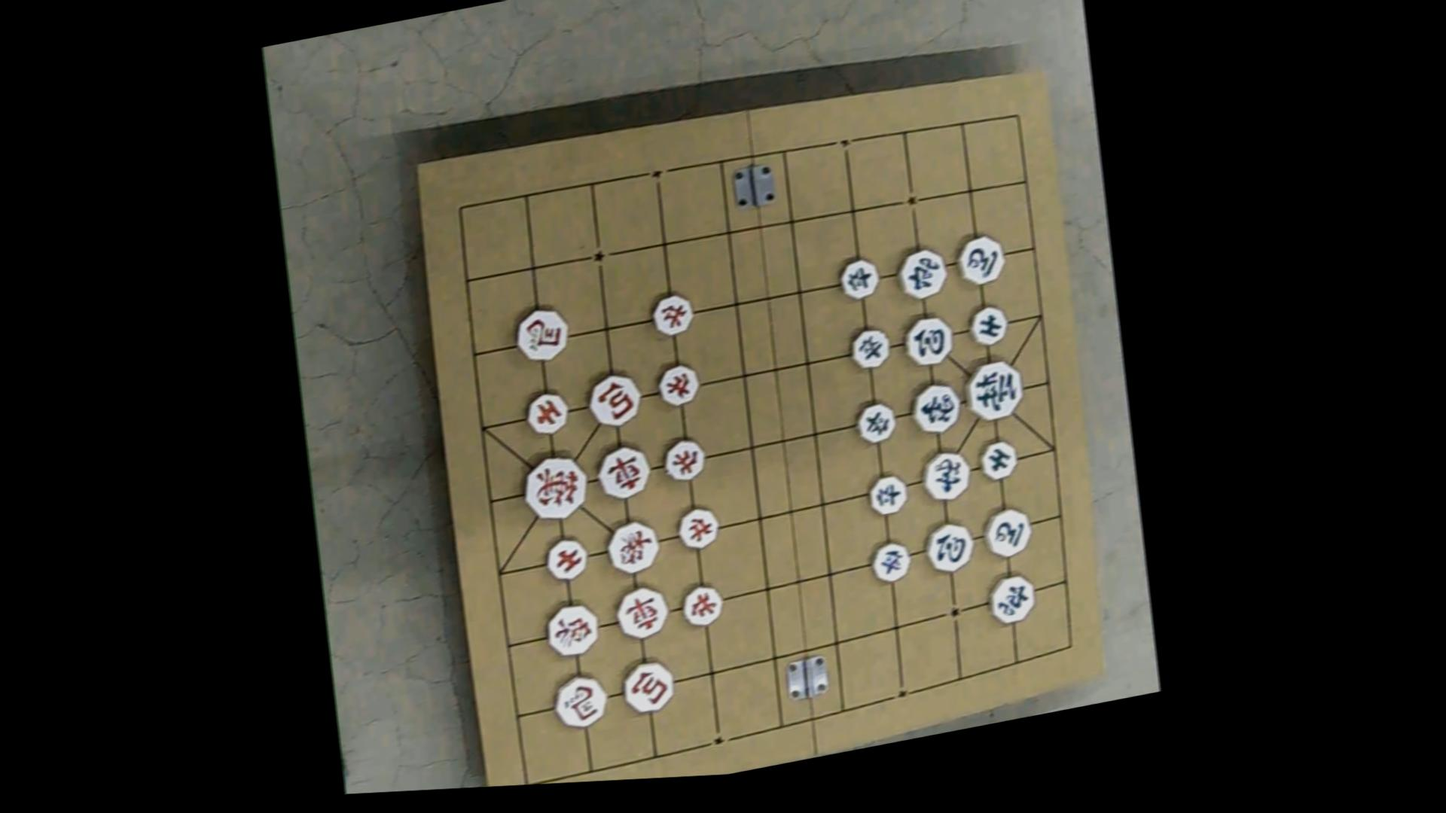cha_green: (894, 243, 950, 301), (985, 571, 1039, 626)
cha_red: (613, 583, 671, 642), (594, 443, 653, 501)
jol_green: (837, 255, 882, 300), (866, 472, 910, 516), (848, 325, 892, 369), (870, 540, 913, 584), (855, 400, 898, 444)
jol_red: (679, 581, 726, 630), (661, 435, 708, 483), (649, 290, 696, 338), (675, 504, 721, 550), (655, 361, 701, 407)
ma_green: (981, 503, 1036, 560), (954, 231, 1008, 288)
ma_red: (512, 304, 572, 364), (551, 671, 611, 730)
po_green: (901, 311, 957, 369), (922, 519, 978, 575)
po_red: (584, 368, 645, 429), (620, 657, 678, 717)
sa_green: (966, 302, 1011, 346), (977, 437, 1020, 483)
sa_red: (523, 388, 572, 436), (543, 534, 590, 583)
sang_green: (908, 379, 965, 436), (919, 446, 974, 504)
sang_red: (544, 600, 602, 659), (605, 518, 663, 577)
wang_green: (962, 355, 1027, 423)
wang_red: (520, 450, 592, 523)
